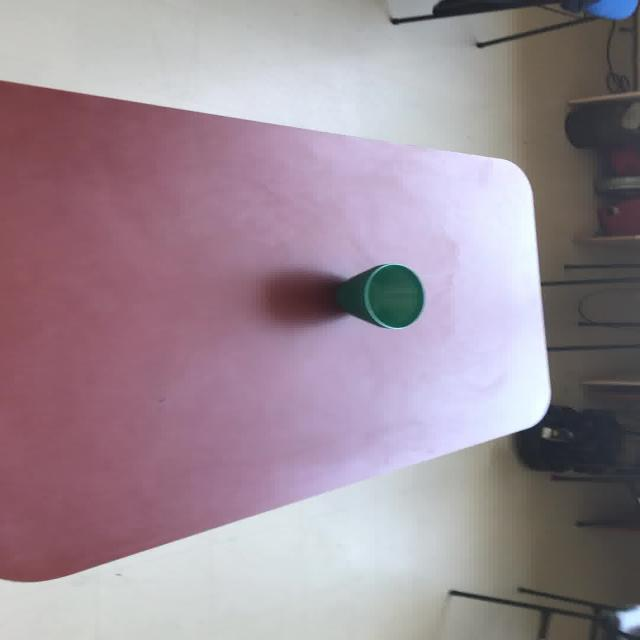bowl: (334, 262, 425, 329)
